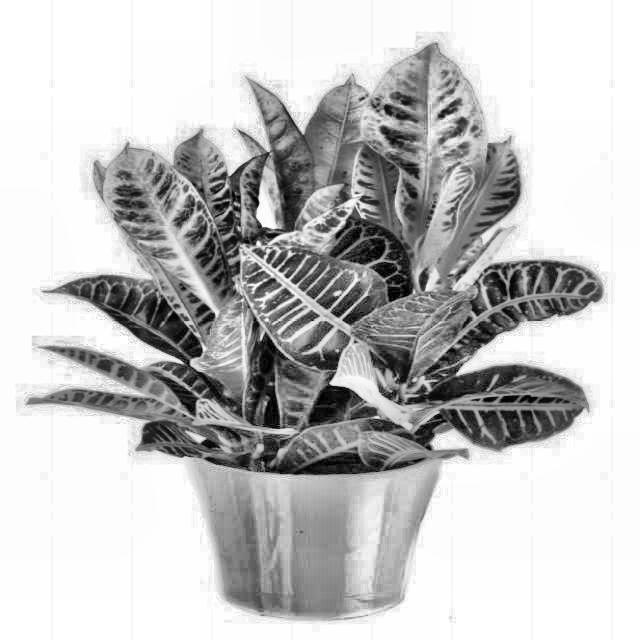plants: (28, 39, 589, 614)
